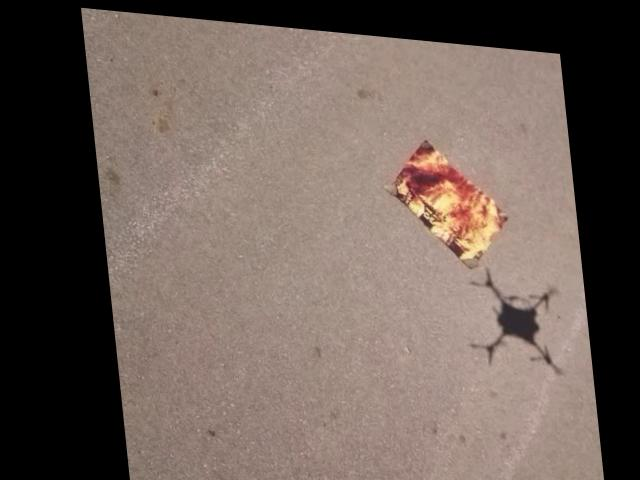fire-poster: (378, 127, 510, 263)
